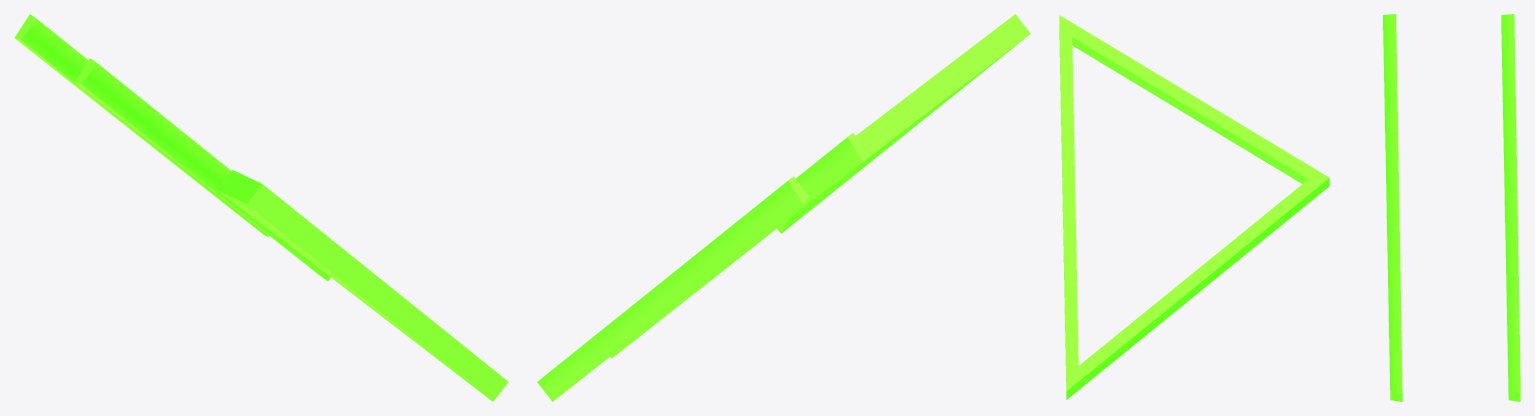
The model's file is playpause_on.glb.
3 views of the same model, side by side, from view 1: azimuth 30°, elevation 25°; view 2: azimuth 150°, elevation 25°; view 3: azimuth 270°, elevation 25° (orthographic).
Visible parts, largest first — view 1: playpause_on; view 2: playpause_on; view 3: playpause_on.
Boxes of the visible parts, x1,y1,x2,y2 form: playpause_on: (14,14,508,401); playpause_on: (537,14,1030,401); playpause_on: (1059,14,1520,401).
Bounding box in the file's own units: 0.0107 × 0.0108 × 0.0164.
